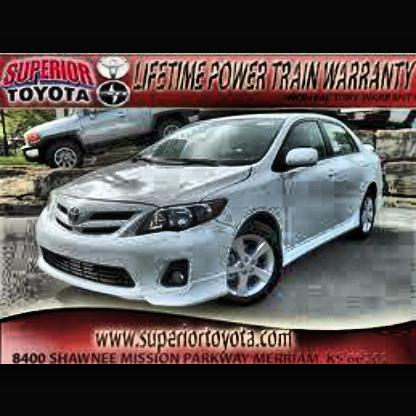Toyota Corolla Sedan 2012: (16, 106, 407, 332)
